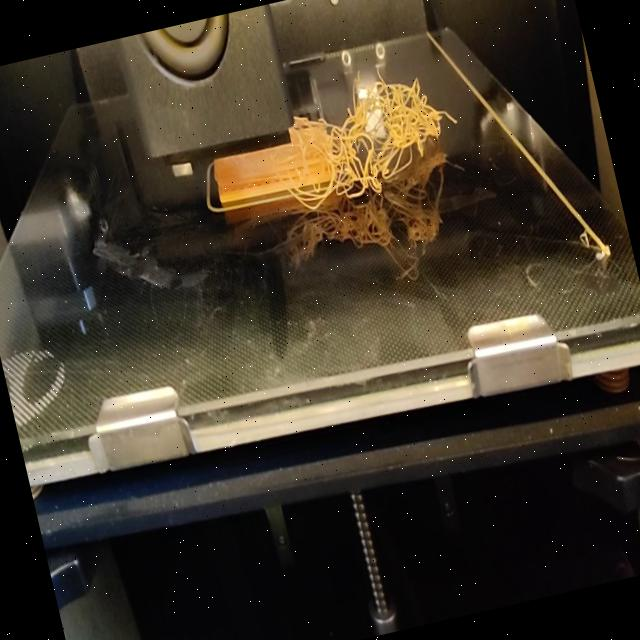spaghetti: (285, 44, 468, 222)
